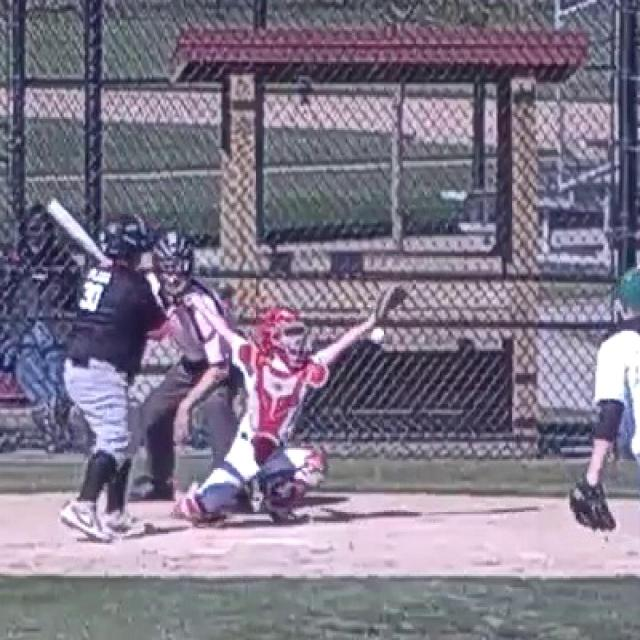baseball: (372, 328, 384, 343)
